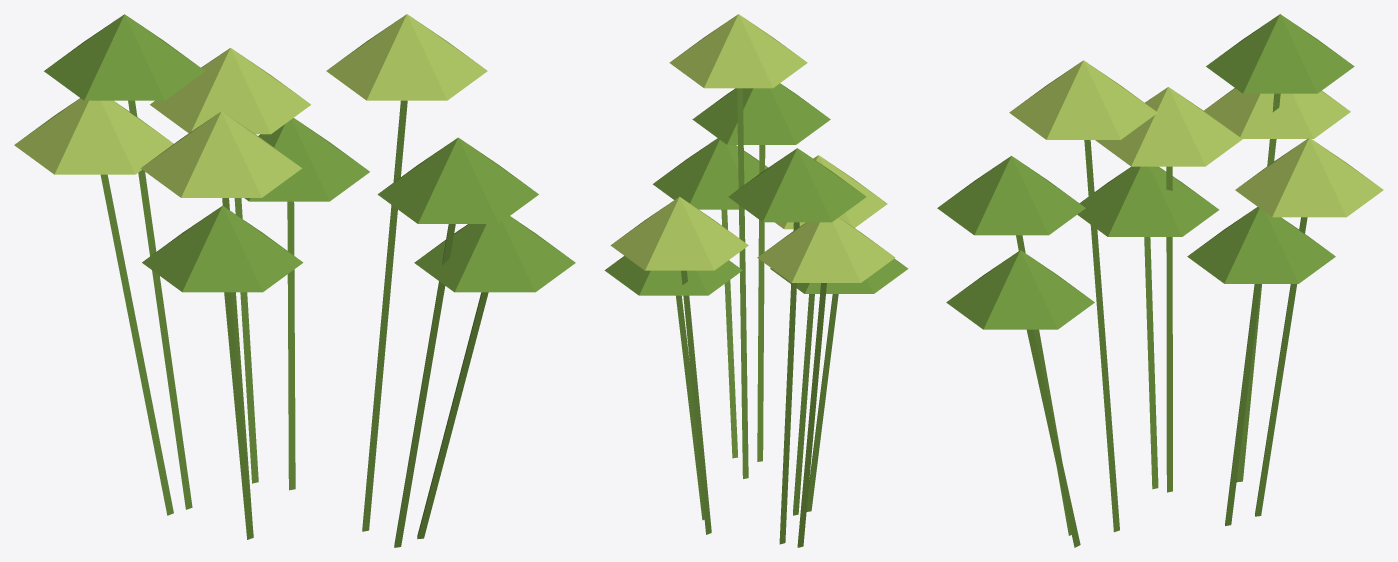
The model's file is papyrus_1.glb.
The picture shows the model from 3 angles, left to right: view 1: azimuth 30°, elevation 25°; view 2: azimuth 150°, elevation 25°; view 3: azimuth 270°, elevation 25°; orthographic projection. The views are drawn at different scales.
Visible parts, largest first — view 1: papyrus_1; view 2: papyrus_1; view 3: papyrus_1.
Part boxes in pixels (left/top/right/bottom): papyrus_1: left=14, top=14, right=575, bottom=547; papyrus_1: left=604, top=14, right=908, bottom=547; papyrus_1: left=937, top=14, right=1383, bottom=547.
Bounding box in the file's own units: 2.46 × 3.21 × 2.7.
